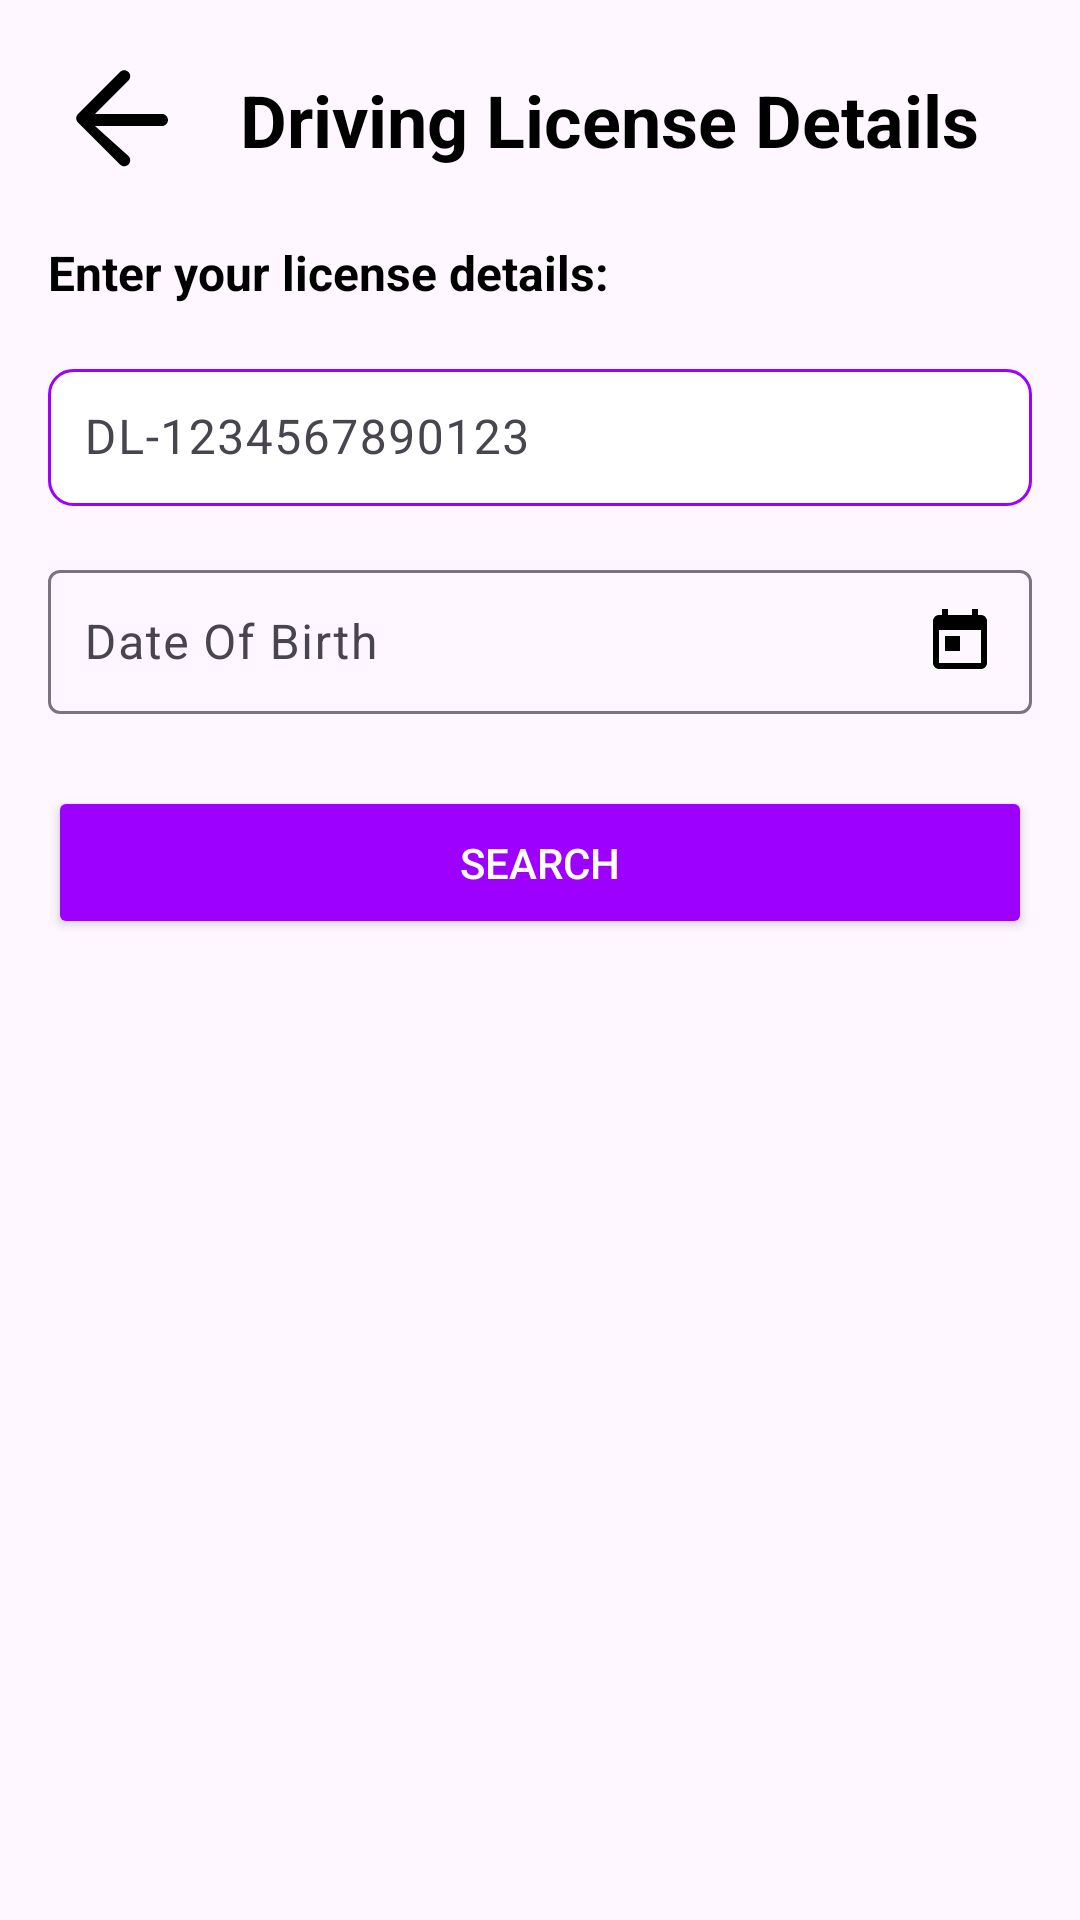

Point at icon controls on the screen. Image size 1080px x 1920px, points as (x,y).
Back: (122,118)
